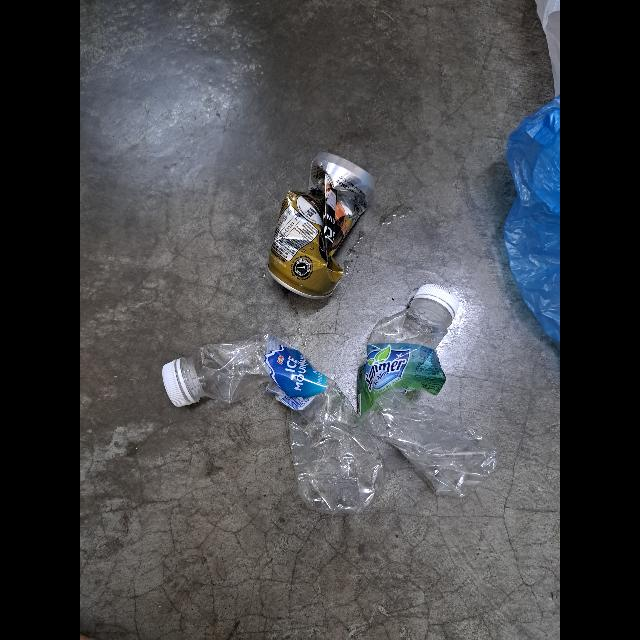garrafa plástica: (185, 328, 379, 524), (360, 304, 492, 506)
lata: (274, 148, 360, 304)
sacola plástica: (502, 95, 560, 363)
tampa plástica: (160, 354, 198, 410), (414, 279, 461, 321)
